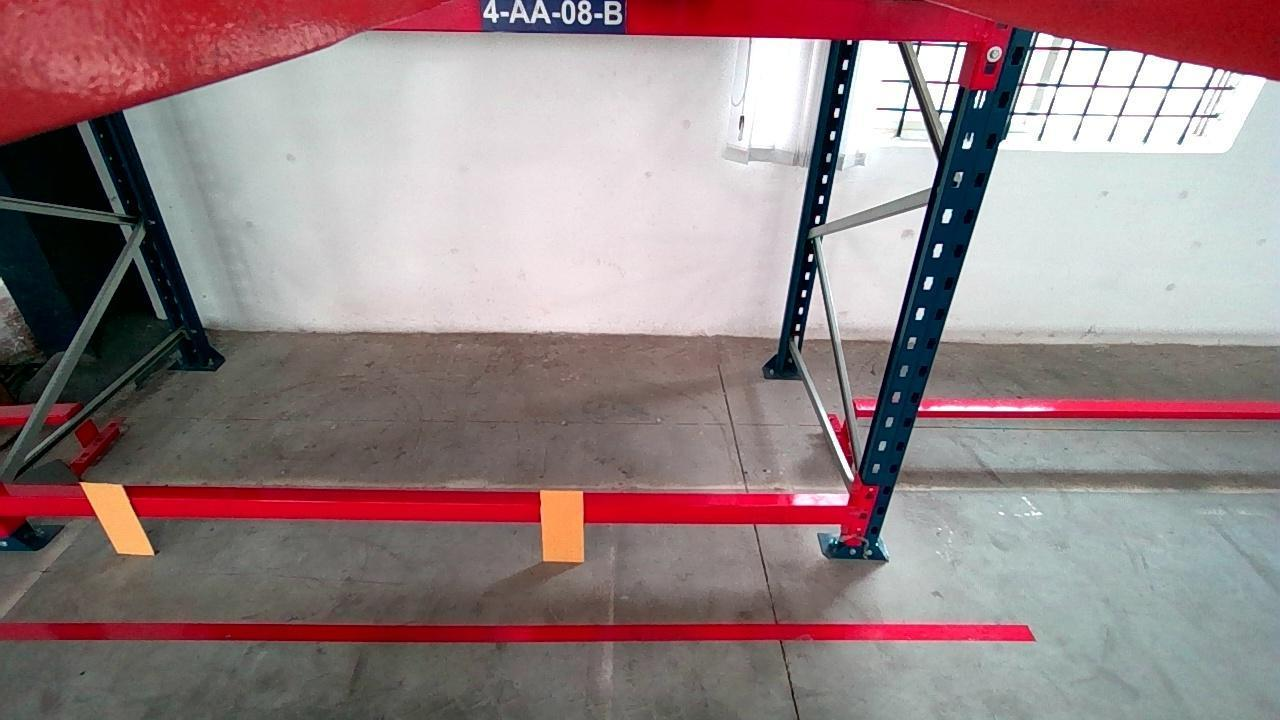h_rack: (0, 497, 851, 522)
orange_strip: (77, 482, 153, 553), (538, 487, 585, 561)
red_line: (2, 619, 1034, 641)
